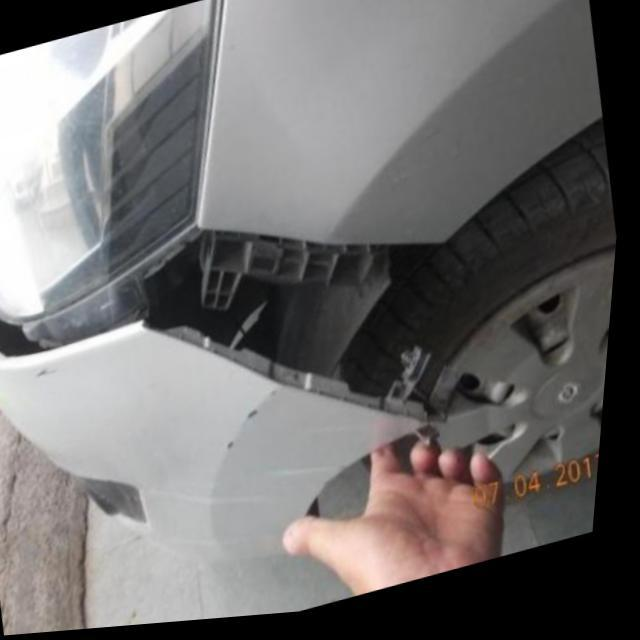dislocated part: (0, 231, 457, 433)
scratch: (231, 388, 290, 464), (161, 484, 288, 514), (169, 532, 294, 554), (267, 461, 342, 489), (310, 426, 377, 445), (28, 364, 71, 389)
